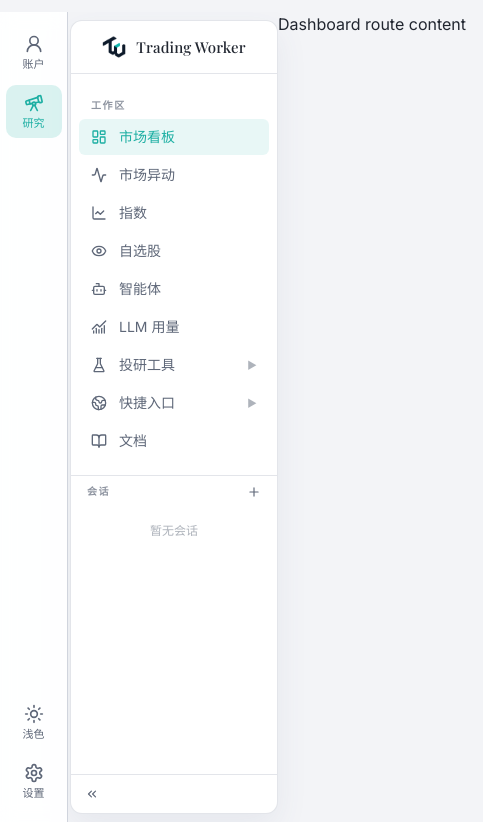
it: Layout sidebar › groups research tools under a collapsible research menu
The width and height of the screenshot is (483, 822).
expect the link "报告" is not shown: met
expect the link "运行时" is not shown: met
Step 1. Click the button "投研工具 ▶" → x=174, y=365, box [79,347,269,383]
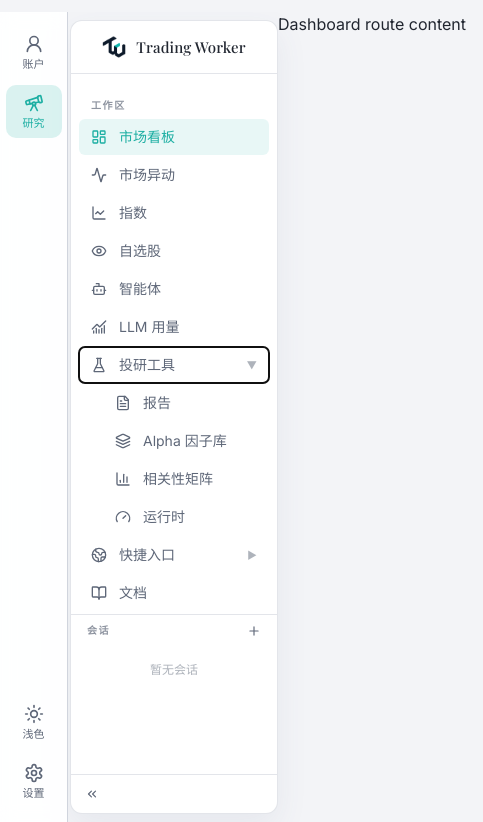
Step 2. Click the button "投研工具 ▶" → x=174, y=365, box [79,347,269,383]
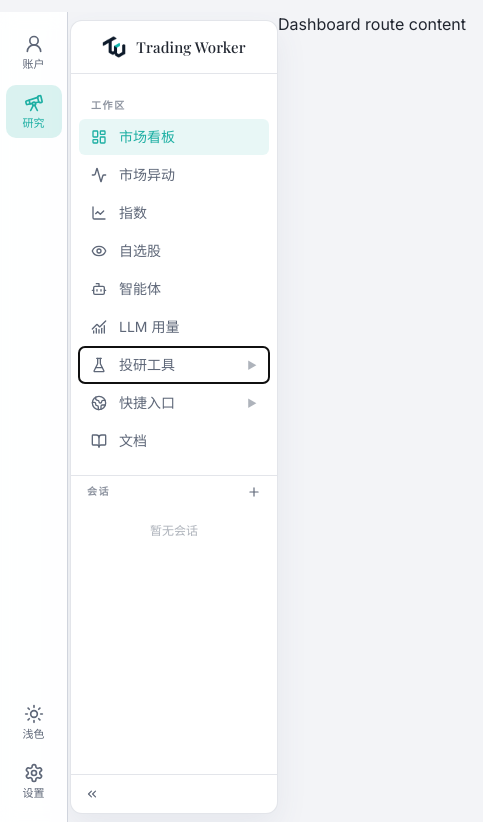
expect the link "报告" is gone: met
expect the link "运行时" is gone: met
